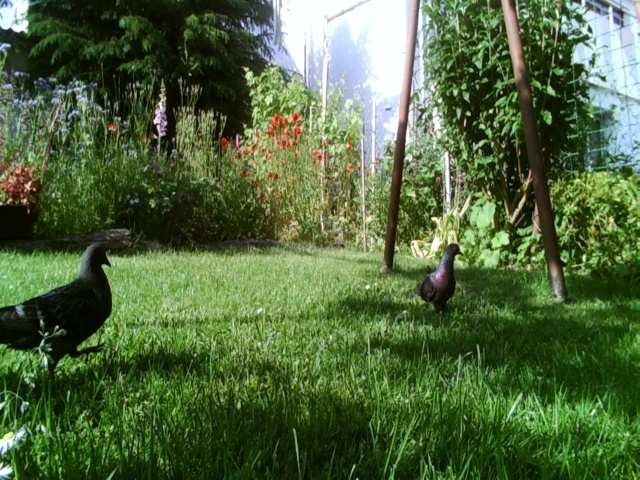Pigeon: (1, 238, 124, 398), (411, 242, 467, 319)
